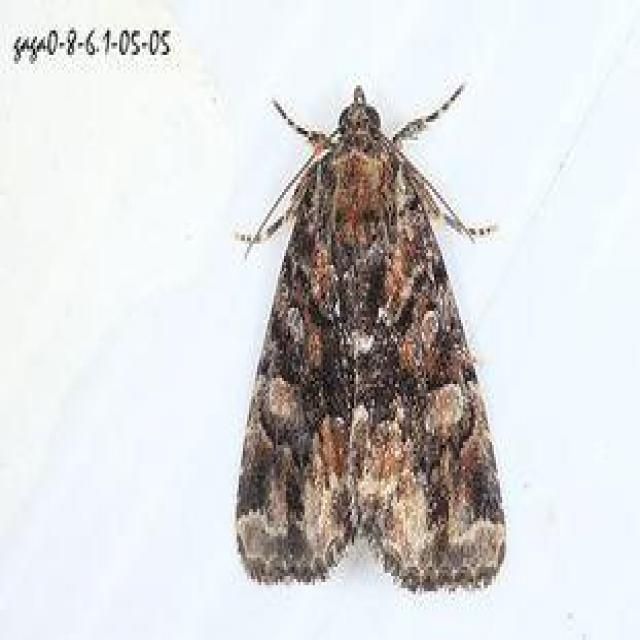armyworm: (224, 82, 514, 590)
